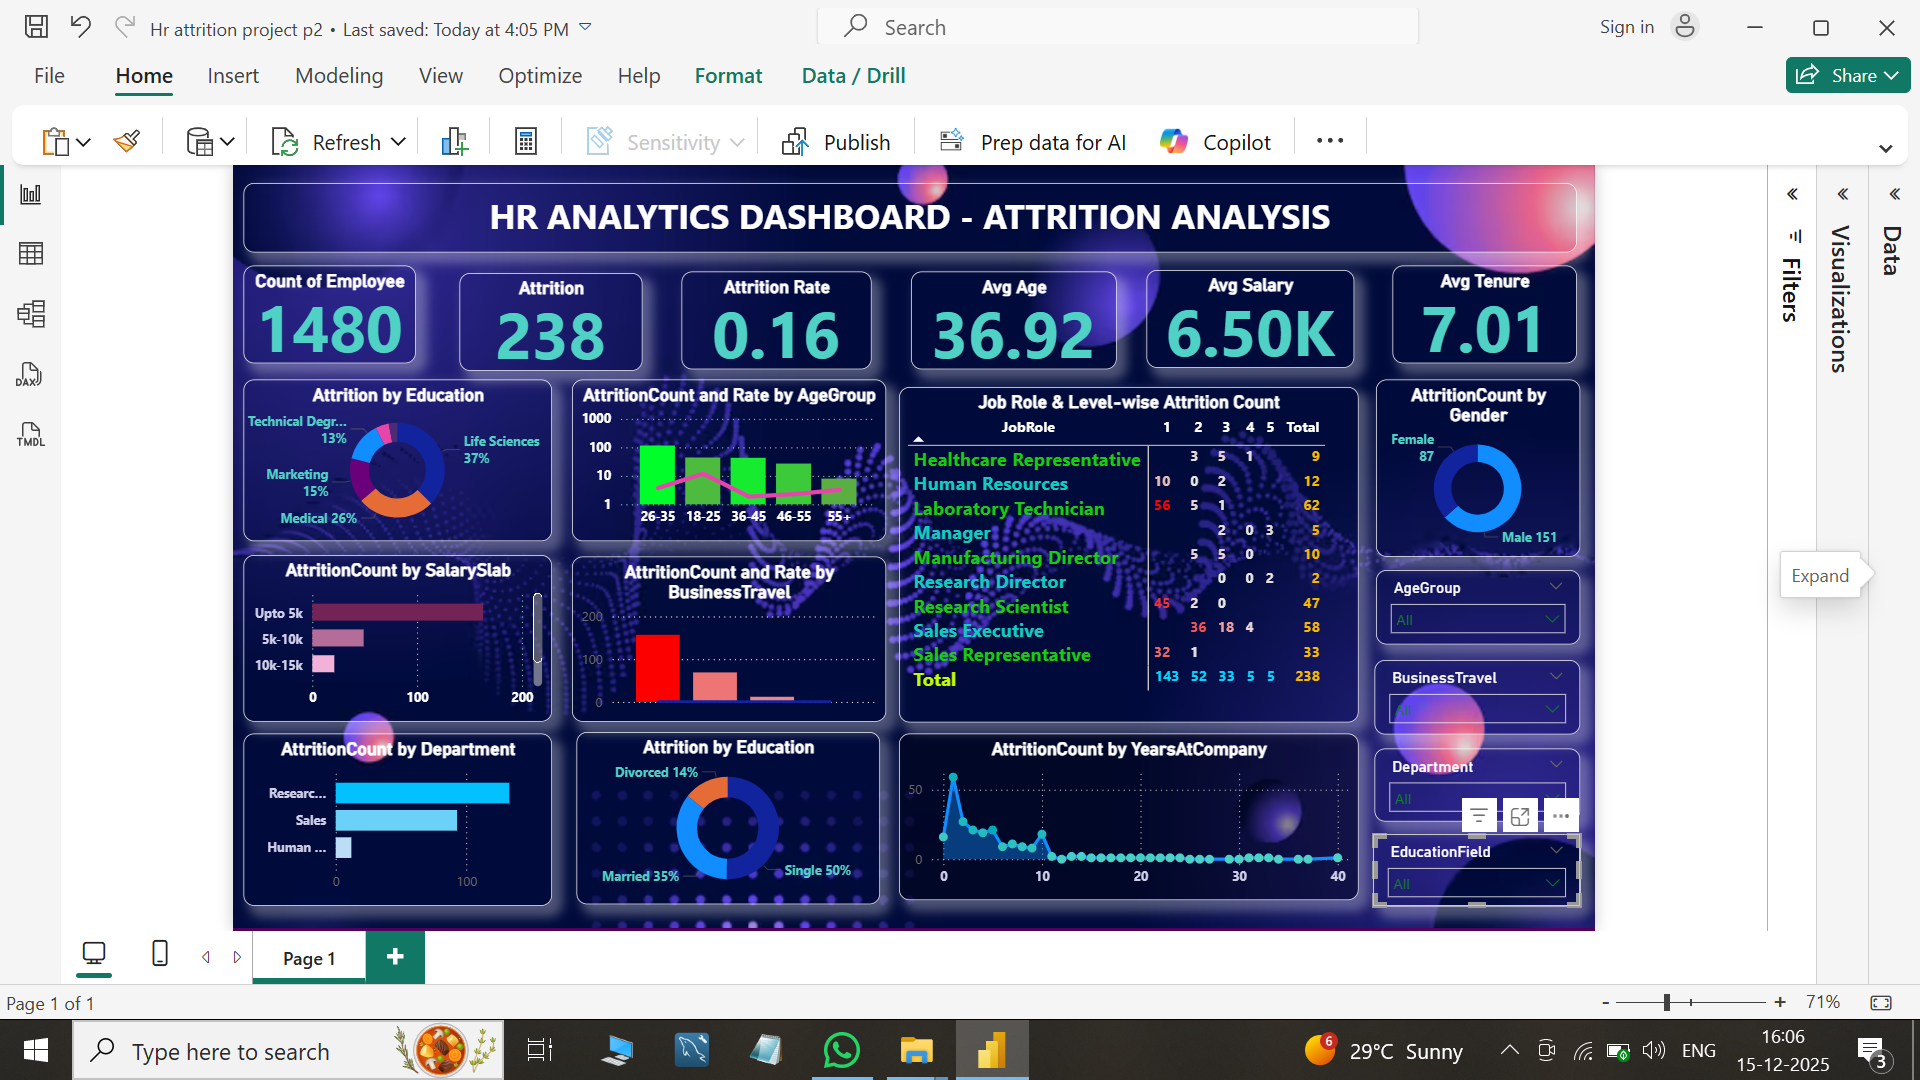

The page's visual inventory and layout, read from the dashboard file:
{"tool":"powerbi","page":{"name":"Page 1","canvas":[1280,720],"ordinal":0},"visuals":[{"type":"textbox","box":[10,16.7,1253.3,65],"z":0},{"type":"card","title":"Count of Employee","fields":{"Values":["CountNonNull(HR_Analytics.EmpID)"]},"box":[10,95,161.7,91.7],"z":1000},{"type":"card","title":"Attrition","fields":{"Values":["Sum(HR_Analytics.AttritionCount)"]},"box":[213.3,101.7,171.7,91.7],"z":2000},{"type":"card","title":"Attrition Rate","fields":{"Values":["HR_Analytics.AttritionRate"]},"box":[421.7,100,178.3,91.7],"z":3000},{"type":"card","title":"Avg Age","fields":{"Values":["Avg(HR_Analytics.Age)"]},"box":[636.7,100,193.3,91.7],"z":4000},{"type":"card","title":"Avg Salary","fields":{"Values":["Avg(HR_Analytics.MonthlyIncome)"]},"box":[858.3,98.3,195,91.7],"z":5000},{"type":"card","title":"Avg Tenure","fields":{"Values":["Avg(HR_Analytics.YearsAtCompany)"]},"box":[1090,95,173.3,91.7],"z":6000},{"type":"donutChart","title":"AttritionCount by Gender","fields":{"Category":["HR_Analytics.Gender"],"Y":["Sum(HR_Analytics.AttritionCount)"]},"box":[1075,201.7,191.7,166.7],"z":7000},{"type":"donutChart","title":"Attrition by Education","fields":{"Category":["HR_Analytics.EducationField","HR_Analytics.YearsAtCompany"],"Y":["Sum(HR_Analytics.AttritionCount)"]},"box":[10,201.7,290,151.7],"z":8000},{"type":"lineStackedColumnComboChart","title":"AttritionCount and Rate by AgeGroup","fields":{"Category":["HR_Analytics.AgeGroup"],"Y":["Sum(HR_Analytics.AttritionCount)"],"Y2":["HR_Analytics.AttritionRate"]},"box":[318.3,201.7,295,151.7],"z":9000},{"type":"pivotTable","title":"Job Role & Level-wise Attrition Count","fields":{"Rows":["HR_Analytics.JobRole"],"Columns":["HR_Analytics.JobLevel"],"Values":["Sum(HR_Analytics.AttritionCount)"]},"box":[626.7,208.3,431.7,315],"z":10000},{"type":"barChart","title":"AttritionCount by SalarySlab","fields":{"Category":["HR_Analytics.SalarySlab"],"Y":["Sum(HR_Analytics.AttritionCount)"]},"box":[10,366.7,290,156.7],"z":11000},{"type":"areaChart","title":"AttritionCount by YearsAtCompany","fields":{"Y":["Sum(HR_Analytics.AttritionCount)"],"Category":["HR_Analytics.YearsAtCompany"]},"box":[626.7,535,431.7,156.7],"z":12000},{"type":"barChart","title":"AttritionCount by Department","fields":{"Y":["Sum(HR_Analytics.AttritionCount)"],"Category":["HR_Analytics.Department"]},"box":[10,535,290,161.7],"z":13000},{"type":"donutChart","title":"Attrition by Education","fields":{"Y":["Sum(HR_Analytics.AttritionCount)"],"Category":["HR_Analytics.MaritalStatus"]},"box":[323.3,533.3,285,161.7],"z":14000},{"type":"lineStackedColumnComboChart","title":"AttritionCount and Rate by BusinessTravel","fields":{"Y":["Sum(HR_Analytics.AttritionCount)"],"Y2":["HR_Analytics.AttritionRate"],"Category":["HR_Analytics.BusinessTravel"]},"box":[318.3,368.3,295,155],"z":15000},{"type":"slicer","fields":{"Values":["HR_Analytics.AgeGroup"]},"box":[1075,380,191.7,70],"z":16000},{"type":"slicer","fields":{"Values":["HR_Analytics.BusinessTravel"]},"box":[1073.3,465,193.3,70],"z":17000},{"type":"slicer","fields":{"Values":["HR_Analytics.Department"]},"box":[1073.3,548.3,193.3,68.3],"z":18000},{"type":"slicer","fields":{"Values":["HR_Analytics.EducationField"]},"box":[1071.7,628.3,195,68.3],"z":19000}]}

Visuals, with their boxes on the page's 1280x720 design canvas (x1, y1, x2, y2). These are canvas units, not pixel positions in the 1920x1080 screenshot, which may show the page scaled, cropped or inside an application window:
textbox: [left=10, top=17, right=1263, bottom=82]
"Count of Employee" card: [left=10, top=95, right=172, bottom=187]
"Attrition" card: [left=213, top=102, right=385, bottom=193]
"Attrition Rate" card: [left=422, top=100, right=600, bottom=192]
"Avg Age" card: [left=637, top=100, right=830, bottom=192]
"Avg Salary" card: [left=858, top=98, right=1053, bottom=190]
"Avg Tenure" card: [left=1090, top=95, right=1263, bottom=187]
"AttritionCount by Gender" donutChart: [left=1075, top=202, right=1267, bottom=368]
"Attrition by Education" donutChart: [left=10, top=202, right=300, bottom=353]
"AttritionCount and Rate by AgeGroup" lineStackedColumnComboChart: [left=318, top=202, right=613, bottom=353]
"Job Role & Level-wise Attrition Count" pivotTable: [left=627, top=208, right=1058, bottom=523]
"AttritionCount by SalarySlab" barChart: [left=10, top=367, right=300, bottom=523]
"AttritionCount by YearsAtCompany" areaChart: [left=627, top=535, right=1058, bottom=692]
"AttritionCount by Department" barChart: [left=10, top=535, right=300, bottom=697]
"Attrition by Education" donutChart: [left=323, top=533, right=608, bottom=695]
"AttritionCount and Rate by BusinessTravel" lineStackedColumnComboChart: [left=318, top=368, right=613, bottom=523]
slicer - HR_Analytics.AgeGroup: [left=1075, top=380, right=1267, bottom=450]
slicer - HR_Analytics.BusinessTravel: [left=1073, top=465, right=1267, bottom=535]
slicer - HR_Analytics.Department: [left=1073, top=548, right=1267, bottom=617]
slicer - HR_Analytics.EducationField: [left=1072, top=628, right=1267, bottom=697]
